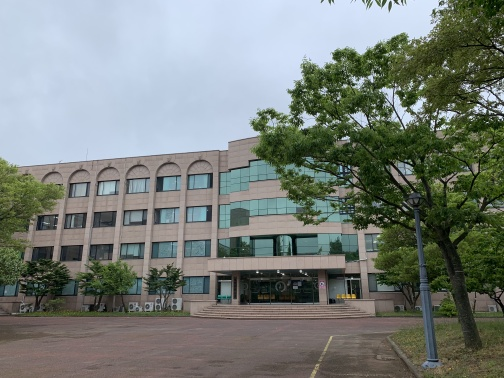Natural Science2: (23, 128, 414, 320)
